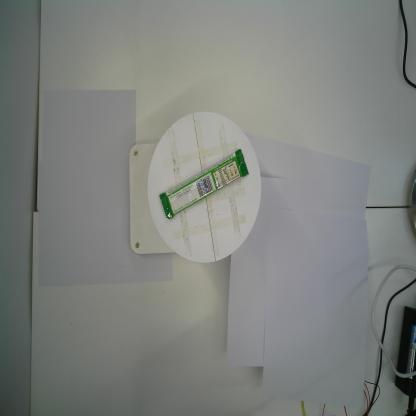Chocolate: (158, 148, 250, 220)
